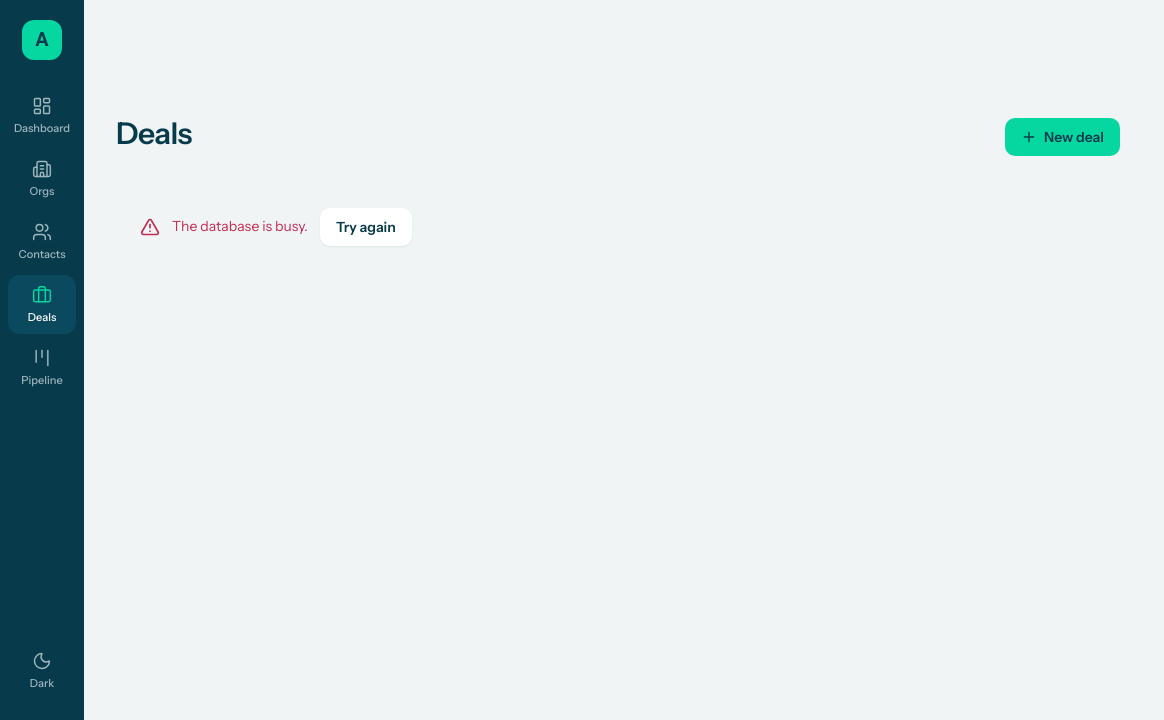
Test: the deals list › shows why the deals couldn't load, and tries again
Expected: the message shows "The database is busy.", [172,218,308,236]
What coordinates should you click on to do the following:
click the button "Try again"
I would click on:
 (366, 227)
Its box is [320,208,412,246].
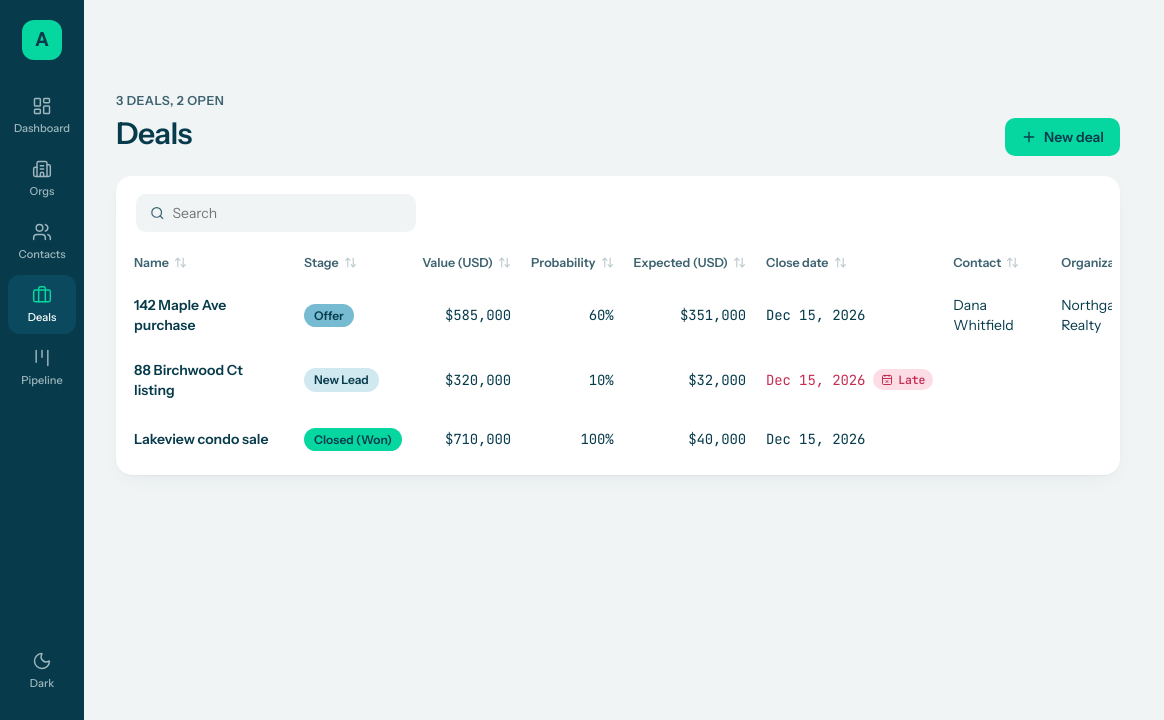
Result: the text "3 deals, 2 open" is shown at [116,92,224,110]
